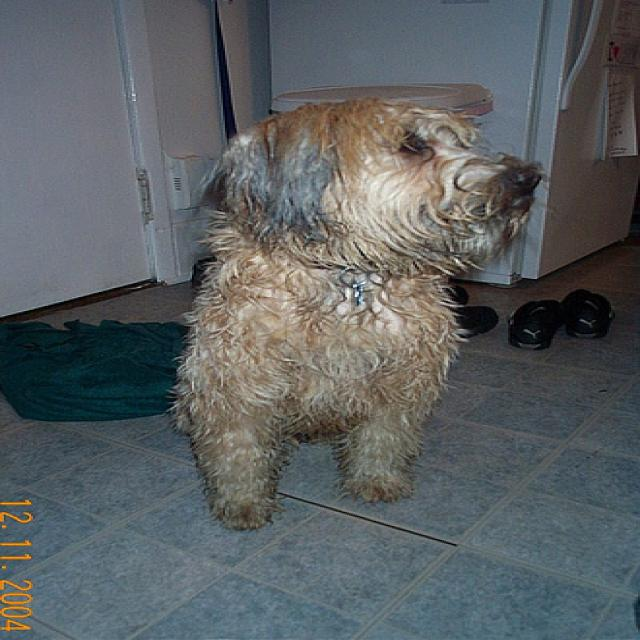dog-wheaten_terrier: (155, 97, 557, 543)
